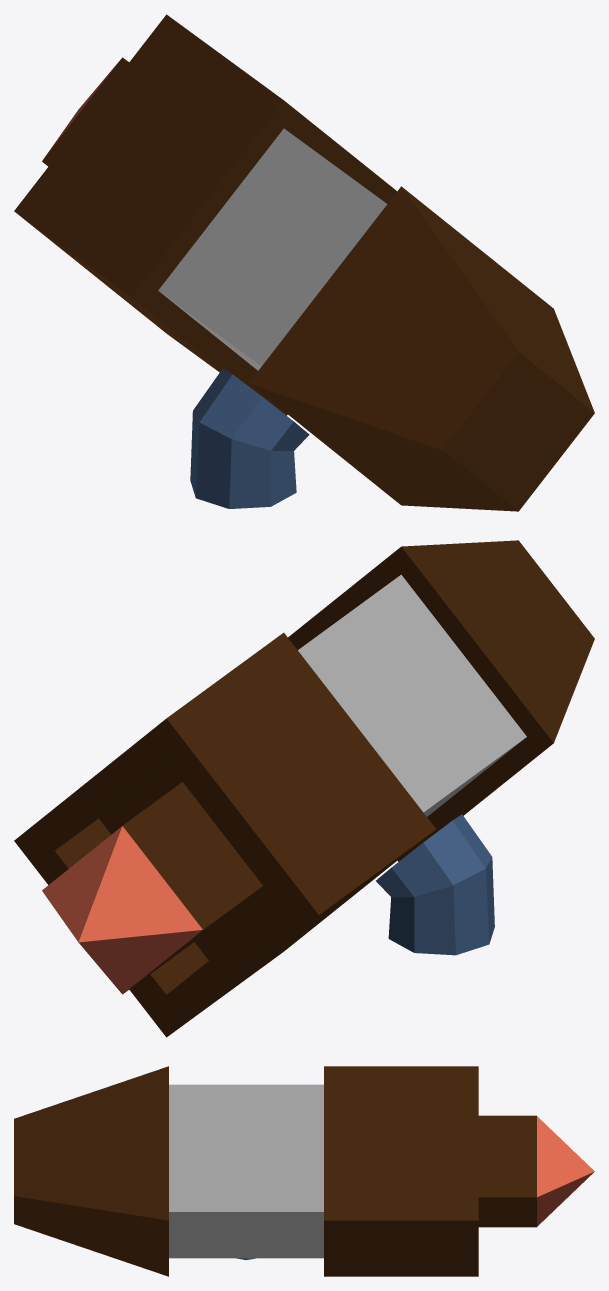
Rendered from PlayerRocketR2.glb.
3 views of the same model, one above another, from view 1: azimuth 30°, elevation 25°; view 2: azimuth 150°, elevation 25°; view 3: azimuth 270°, elevation 25° (orthographic). The views are drawn at different scales.
Visible parts, largest first — view 1: RocketR1; view 2: RocketR1; view 3: RocketR1.
Part boxes in pixels (x1=…): RocketR1: x1=14, y1=14, x2=594, y2=511; RocketR1: x1=14, y1=540, x2=594, y2=1037; RocketR1: x1=14, y1=1066, x2=594, y2=1276.
Size of the model in its own units: 0.4 by 0.4 by 1.
